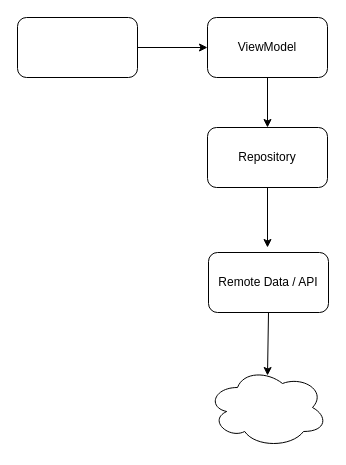
Some shapes in this 346 by 465 pixel diagram are drawn without their labels. The centre of each missing label's shape, as x and y in pixels:
"RESTful API" belongs at point 267,407.
"View" belongs at point 77,47.
